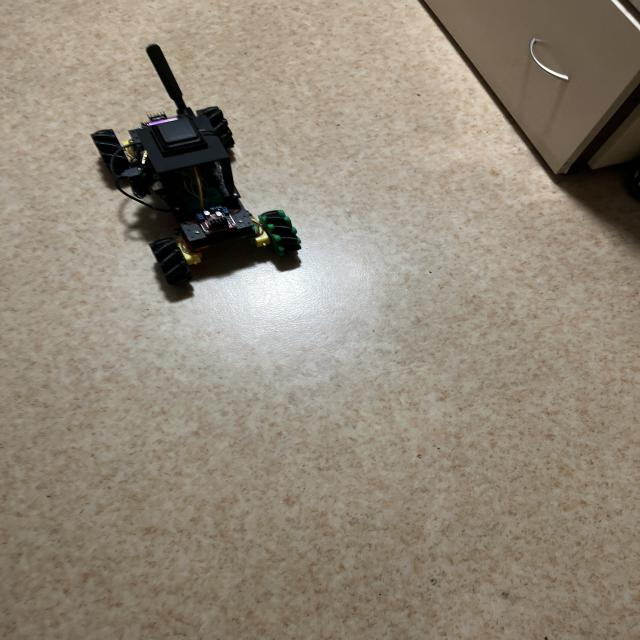robot: (91, 45, 301, 284)
